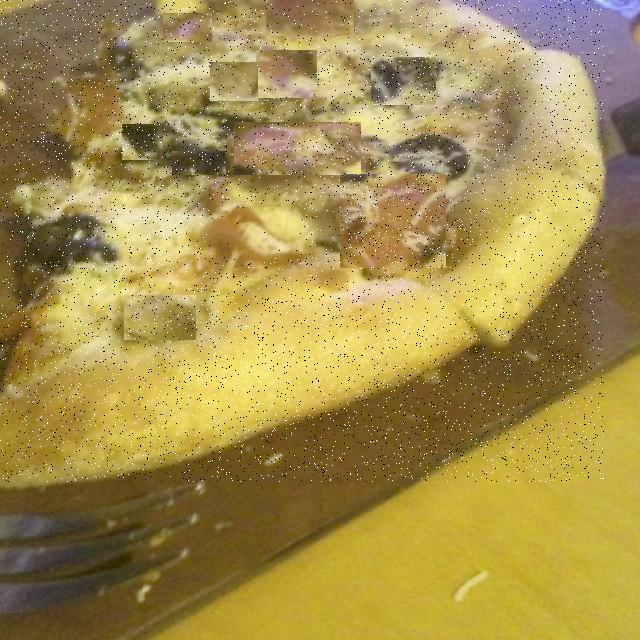Beef: (124, 295, 196, 340), (210, 62, 258, 101), (152, 78, 204, 104)
Olives: (17, 221, 106, 302), (372, 57, 438, 105), (122, 124, 163, 160), (172, 151, 226, 175), (106, 45, 137, 73)
Pepperoni: (340, 174, 446, 268), (234, 122, 361, 175), (213, 208, 300, 258), (266, 0, 354, 36), (256, 50, 317, 98), (163, 13, 212, 42)
Pizza: (0, 0, 604, 482)
